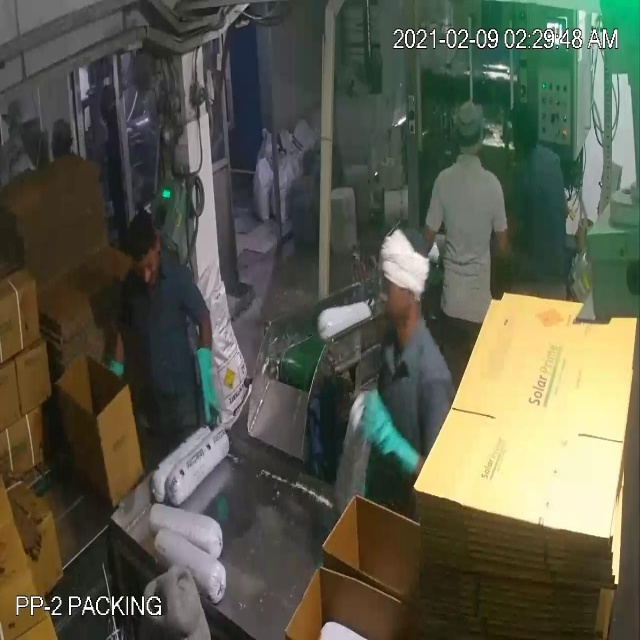Guantes: (352, 366, 416, 484), (187, 333, 236, 445)
